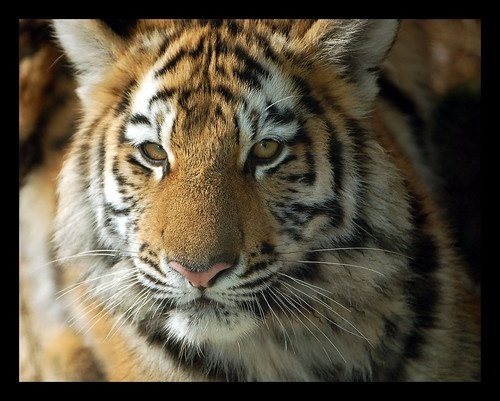tigre: (20, 20, 454, 381)
